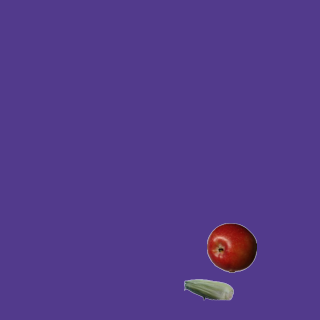Apple Braeburn: (206, 222, 256, 272)
Corn Husk: (183, 264, 233, 314)
